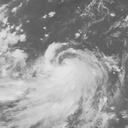cyclone: (31, 44, 111, 115)
